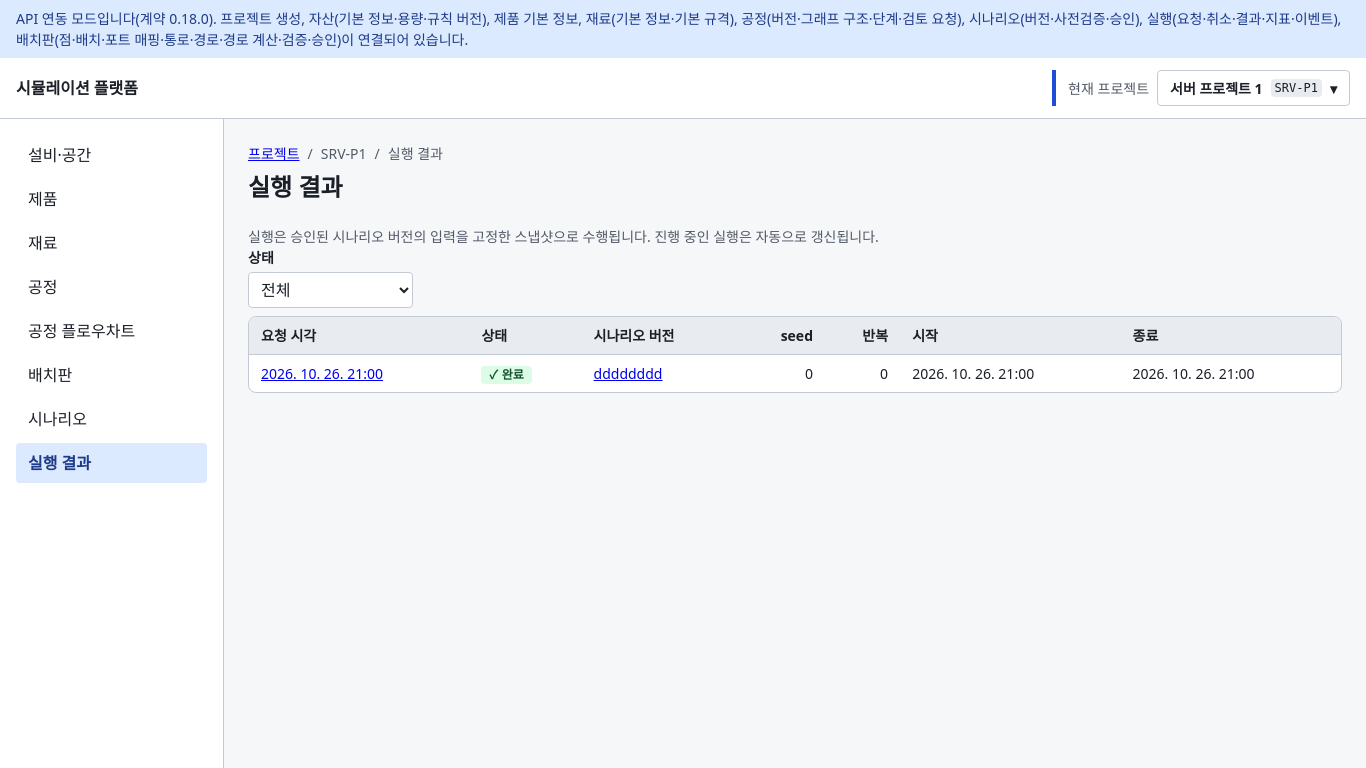
Scenario: API 모드: 실행 목록 › 상태 필터는 서버 쿼리가 되고 결과가 없으면 조건 지우기를 안내한다
The image size is (1366, 768).
Expected: the table named "실행 목록" is shown, [249,317,1341,392]
Select "실패" in the dropdown labelled "상태". click: (330, 290)
box: [248,272,413,308]
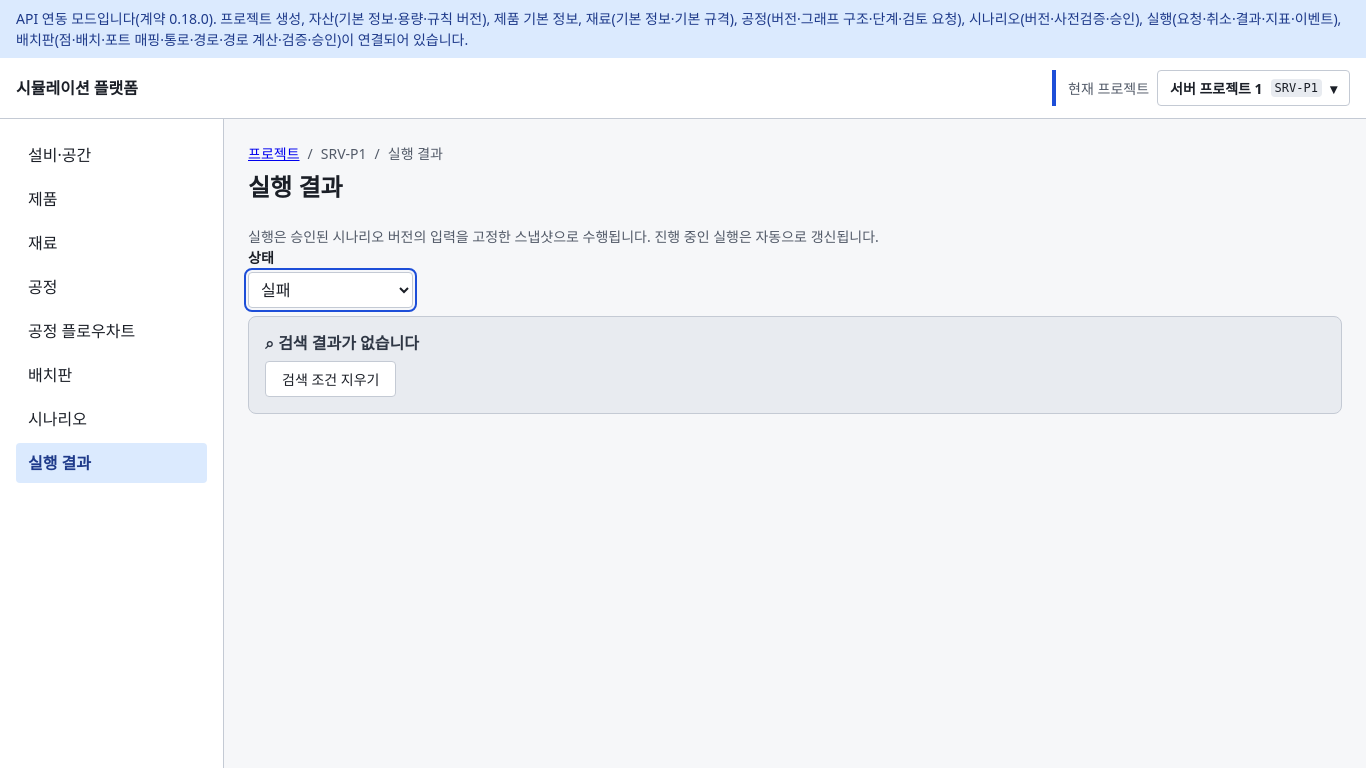
Result: the heading "⌕ 검색 결과가 없습니다" is shown at [265,332,419,354]
Click the button "검색 조건 지우기". click: (331, 379)
box: [265,361,396,397]
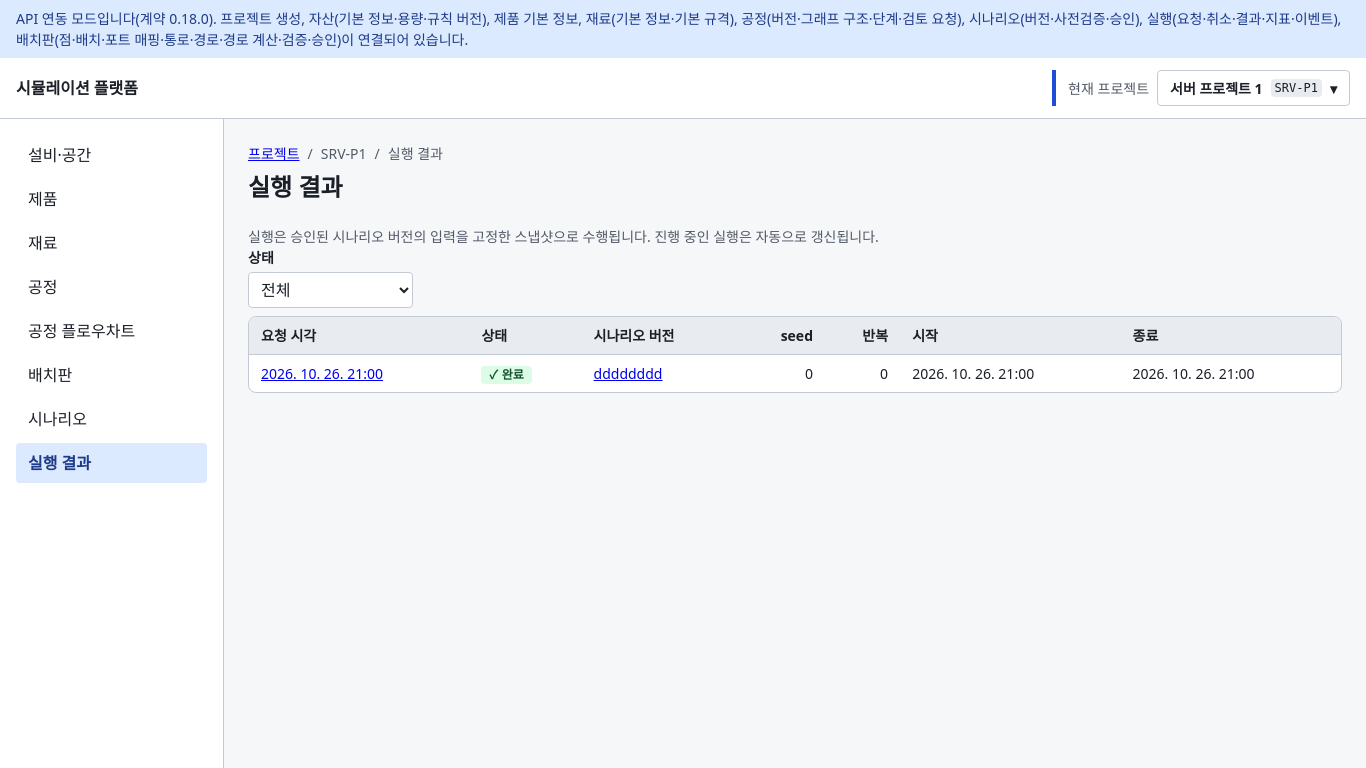
Result: the table named "실행 목록" is shown at [249,317,1341,392]
